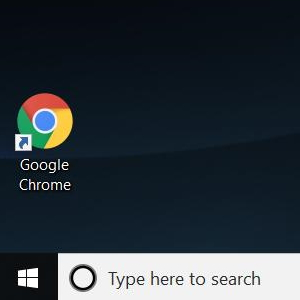chrome: (14, 92, 73, 152)
